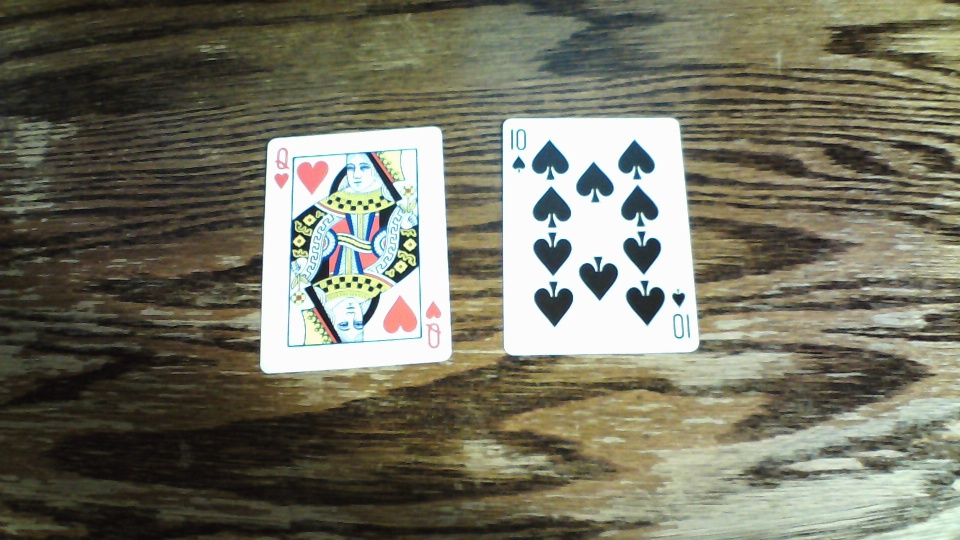queen: (261, 124, 453, 370)
ten: (501, 116, 700, 353)
